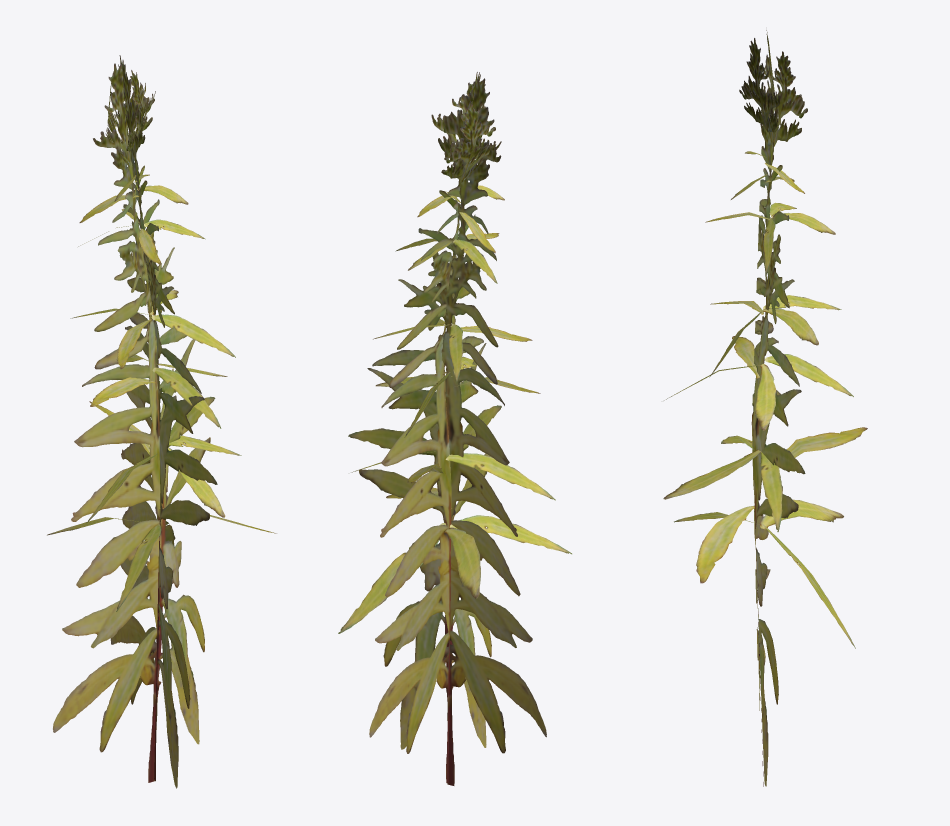
The model's file is Forest_Plant3.fbx.
3 views of the same model, side by side, from view 1: azimuth 30°, elevation 25°; view 2: azimuth 150°, elevation 25°; view 3: azimuth 270°, elevation 25° (orthographic). The views are drawn at different scales.
Parts seen in each view (by area): view 1: forest_plant3; view 2: forest_plant3; view 3: forest_plant3.
Boxes of the visible parts, box(x1,y1,x2,y2) form: forest_plant3: box(47, 55, 276, 788); forest_plant3: box(338, 72, 571, 785); forest_plant3: box(663, 30, 867, 786).
Bounding box in the file's own units: 0.6503 × 2 × 0.7783.
